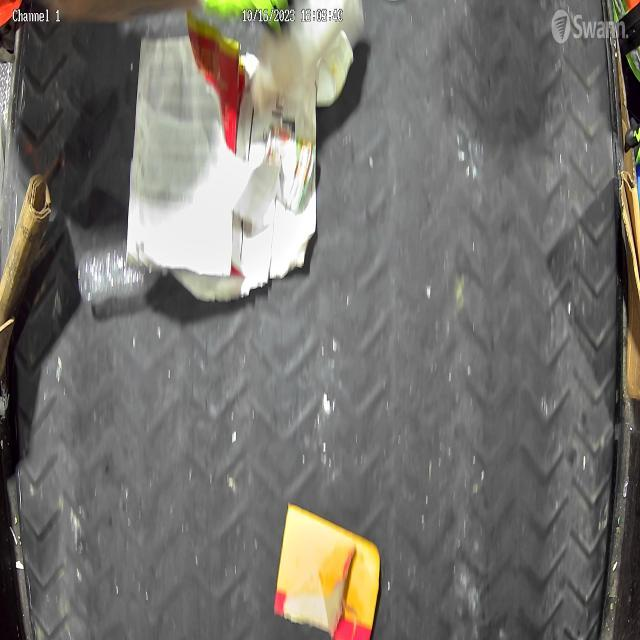plastic_bottle: (80, 248, 168, 303)
